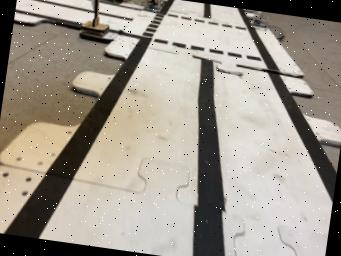street: (3, 0, 336, 256), (3, 0, 336, 256), (15, 0, 94, 27), (15, 0, 94, 27)
